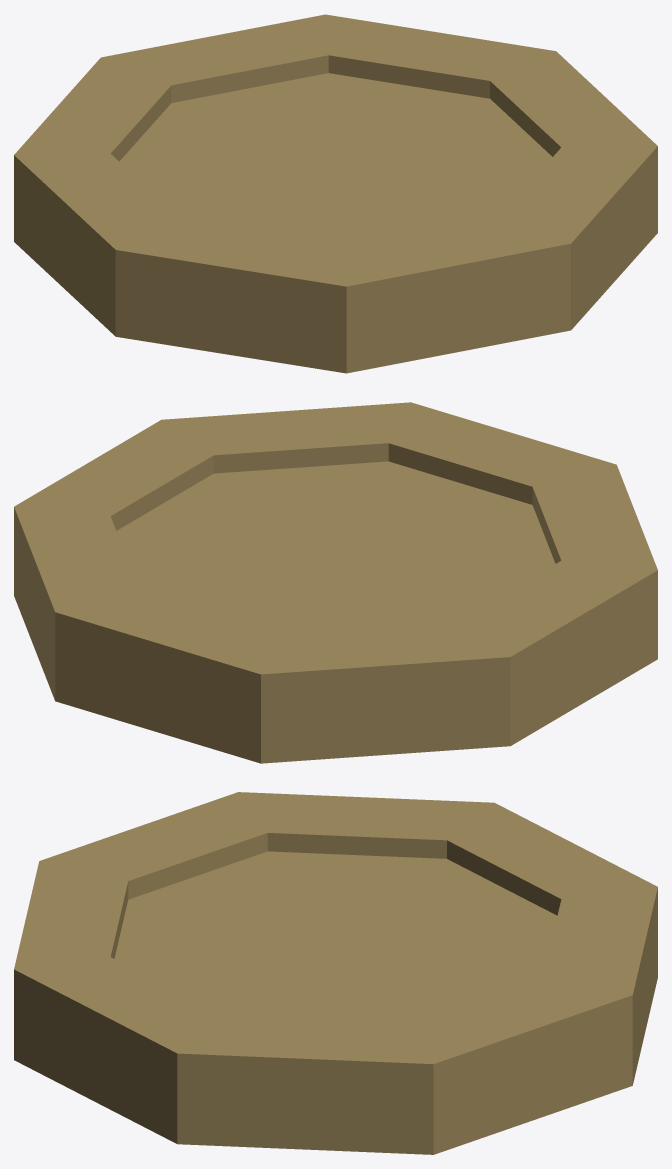
File: singleCoin.fbx
The picture shows the model from 3 angles, top to bottom: view 1: azimuth 30°, elevation 25°; view 2: azimuth 150°, elevation 25°; view 3: azimuth 270°, elevation 25°; orthographic projection. The views are drawn at different scales.
Parts seen in each view (by area): view 1: Coin_Pile; view 2: Coin_Pile; view 3: Coin_Pile.
Part boxes in pixels (<box>): Coin_Pile: <box>14,14,657,373</box>; Coin_Pile: <box>14,402,657,763</box>; Coin_Pile: <box>14,792,657,1154</box>.
Size of the model in its own units: 4.74 by 0.7364 by 4.74.
